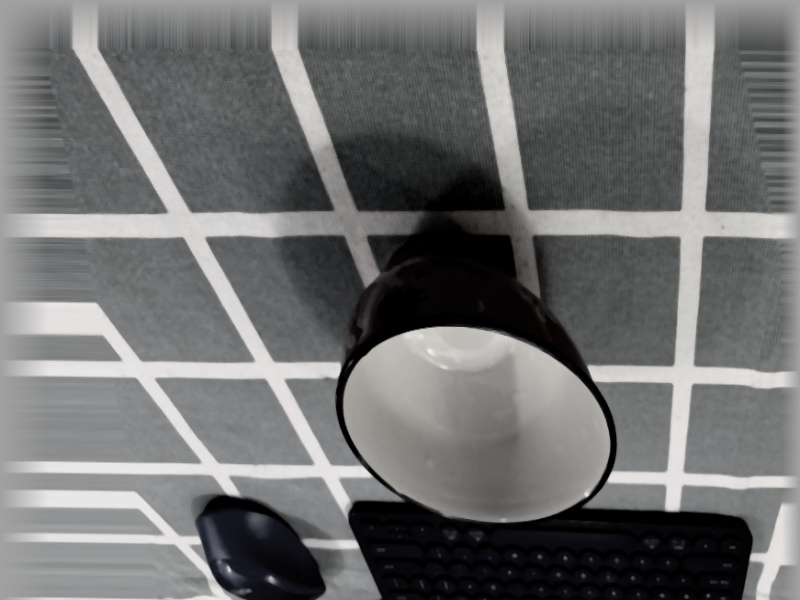bowl_small: (289, 224, 641, 535)
